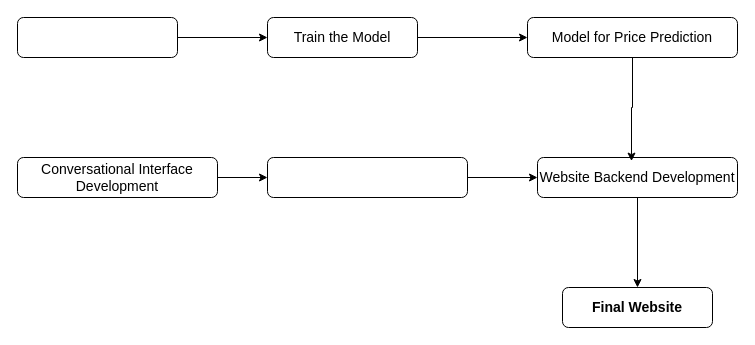
The diagram is 755 pixels wide and 345 high, and some of its shapes have lost their labels. The shapes that lost their labels are listed below. From the top down, each one's box as (x1, y1, x2, y2) in pixels, then its label:
(16, 16, 178, 58): Data Preprocessing
(266, 156, 468, 198): Website Frontend Development
